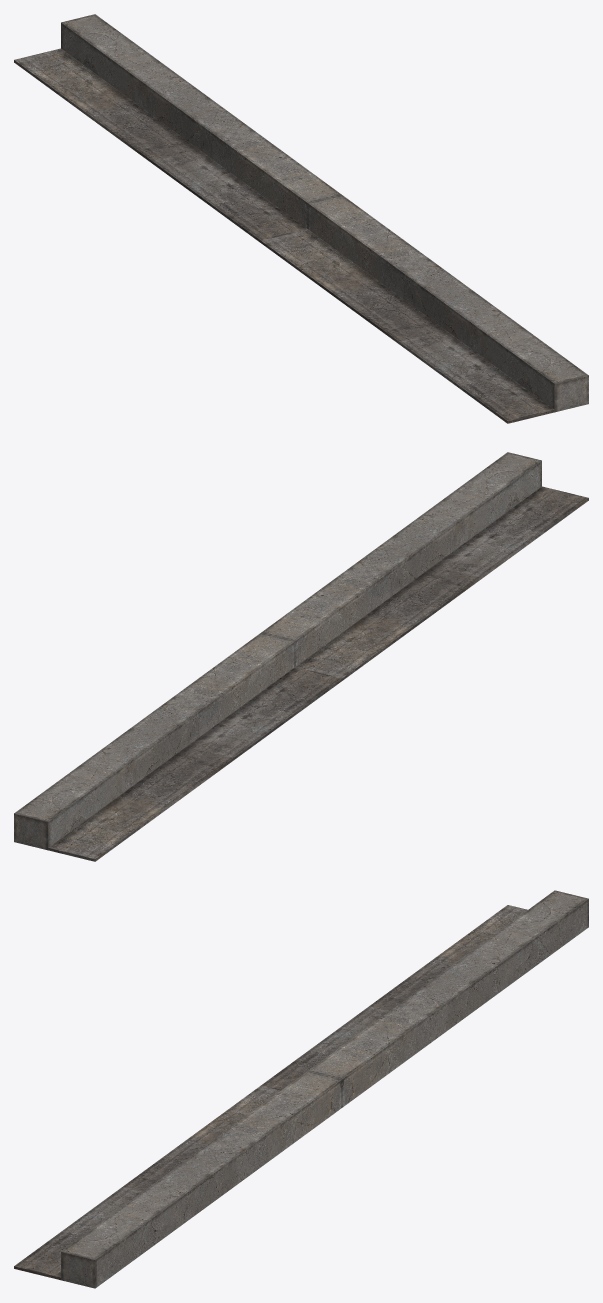
The model's file is CP_Curbstone_4m_01.fbx.
3 renders of one model, top to bottom at view 1: azimuth 30°, elevation 25°; view 2: azimuth 150°, elevation 25°; view 3: azimuth 330°, elevation 25°, orthographic.
Parts seen in each view (by area): view 1: CP_Curbstone_4m_01; view 2: CP_Curbstone_4m_01; view 3: CP_Curbstone_4m_01.
Boxes of the visible parts, left/top/right/bottom form: CP_Curbstone_4m_01: left=14, top=14, right=588, bottom=423; CP_Curbstone_4m_01: left=14, top=452, right=588, bottom=861; CP_Curbstone_4m_01: left=14, top=890, right=588, bottom=1288.
Bounding box in the file's own units: 38 × 12.77 × 400.
